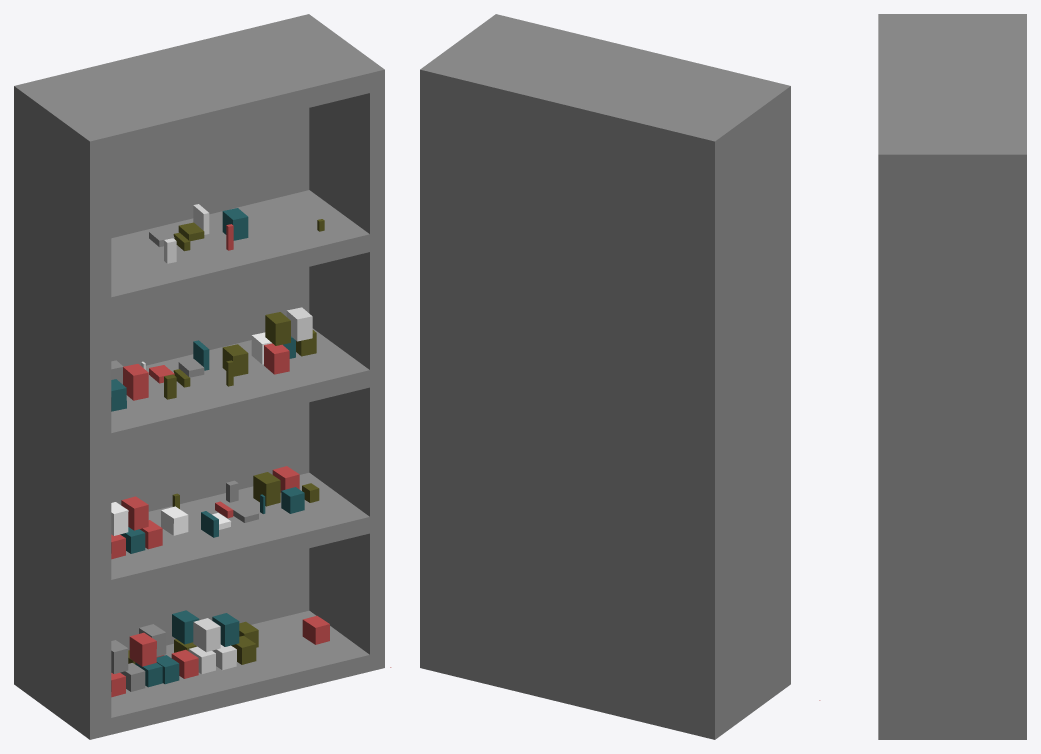
The model's file is scaffale farmacia.fbx.
3 renders of one model, left to right at view 1: azimuth 30°, elevation 25°; view 2: azimuth 150°, elevation 25°; view 3: azimuth 270°, elevation 25°, orthographic. The views are drawn at different scales.
Parts seen in each view (by area): view 1: Cube_1, Cube_37, Cube_59, Cube_45, Cube_19, Cube_38, Cube_39, Cube_32, Cube_20, Cube_52, Cube_9, Cube_65 (+3 smaller); view 2: Cube_1; view 3: Cube_1.
Part boxes in pixels (left/top/right/bottom): Cube_1: left=14, top=14, right=384, bottom=739; Cube_37: left=123, top=364, right=148, bottom=400; Cube_59: left=193, top=618, right=220, bottom=652; Cube_45: left=129, top=632, right=156, bottom=666; Cube_19: left=253, top=472, right=280, bottom=506; Cube_38: left=265, top=312, right=290, bottom=345; Cube_39: left=286, top=307, right=312, bottom=341; Cube_32: left=264, top=343, right=289, bottom=374; Cube_20: left=121, top=496, right=148, bottom=530; Cube_52: left=172, top=610, right=199, bottom=644; Cube_9: left=161, top=506, right=188, bottom=535; Cube_65: left=222, top=208, right=248, bottom=240; Cube_1: left=420, top=14, right=790, bottom=739; Cube_1: left=878, top=14, right=1026, bottom=739.
Bounding box in the file's own units: 332 × 644 × 207.
